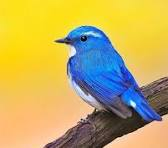Bird: (29, 21, 165, 126)
